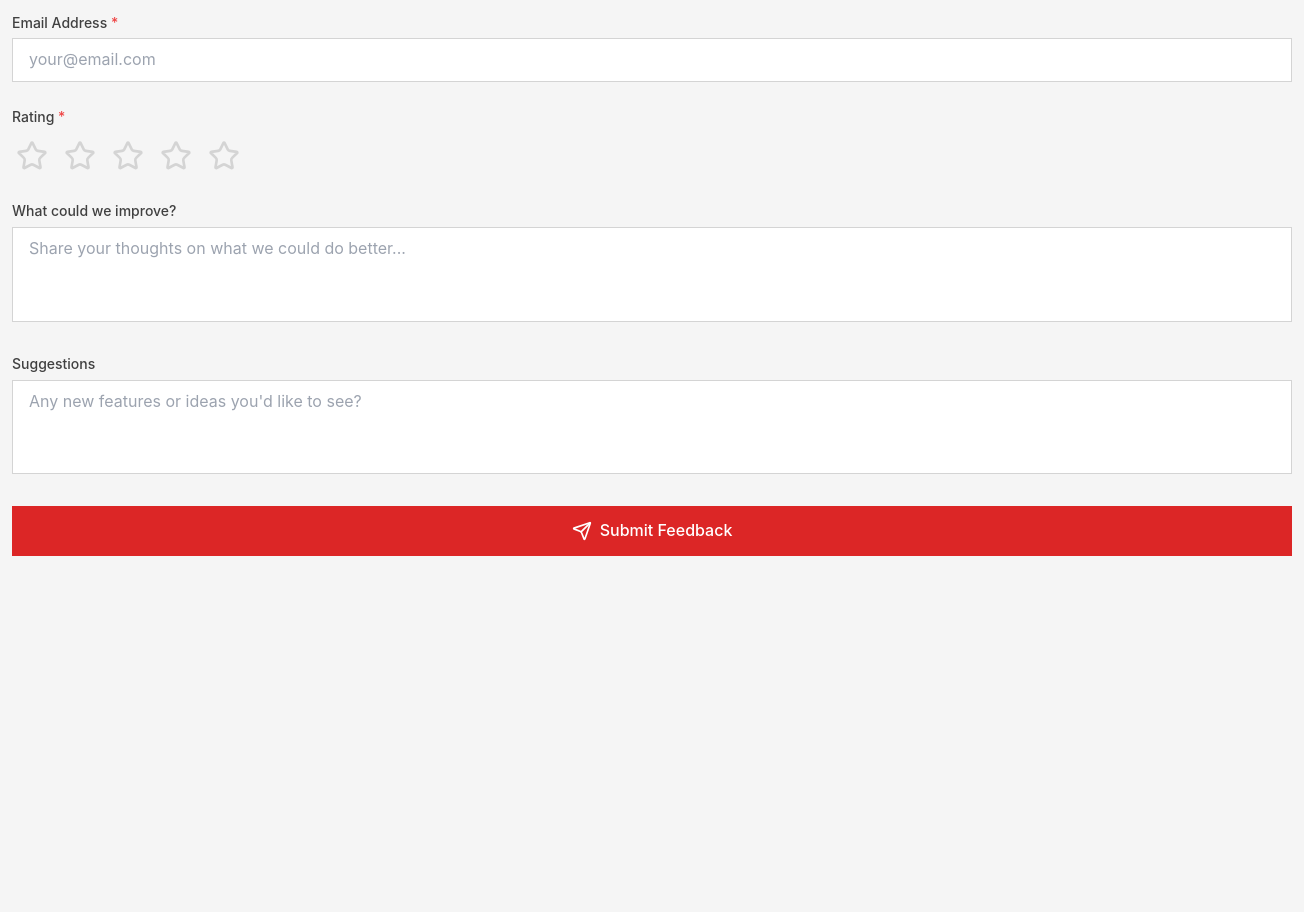
Test: PublicFeedbackForm › shows error on submission failure
Type "a@b.com" into the field labelled "Email Address *". click: {"x": 652, "y": 60}
box: [12, 38, 1292, 82]
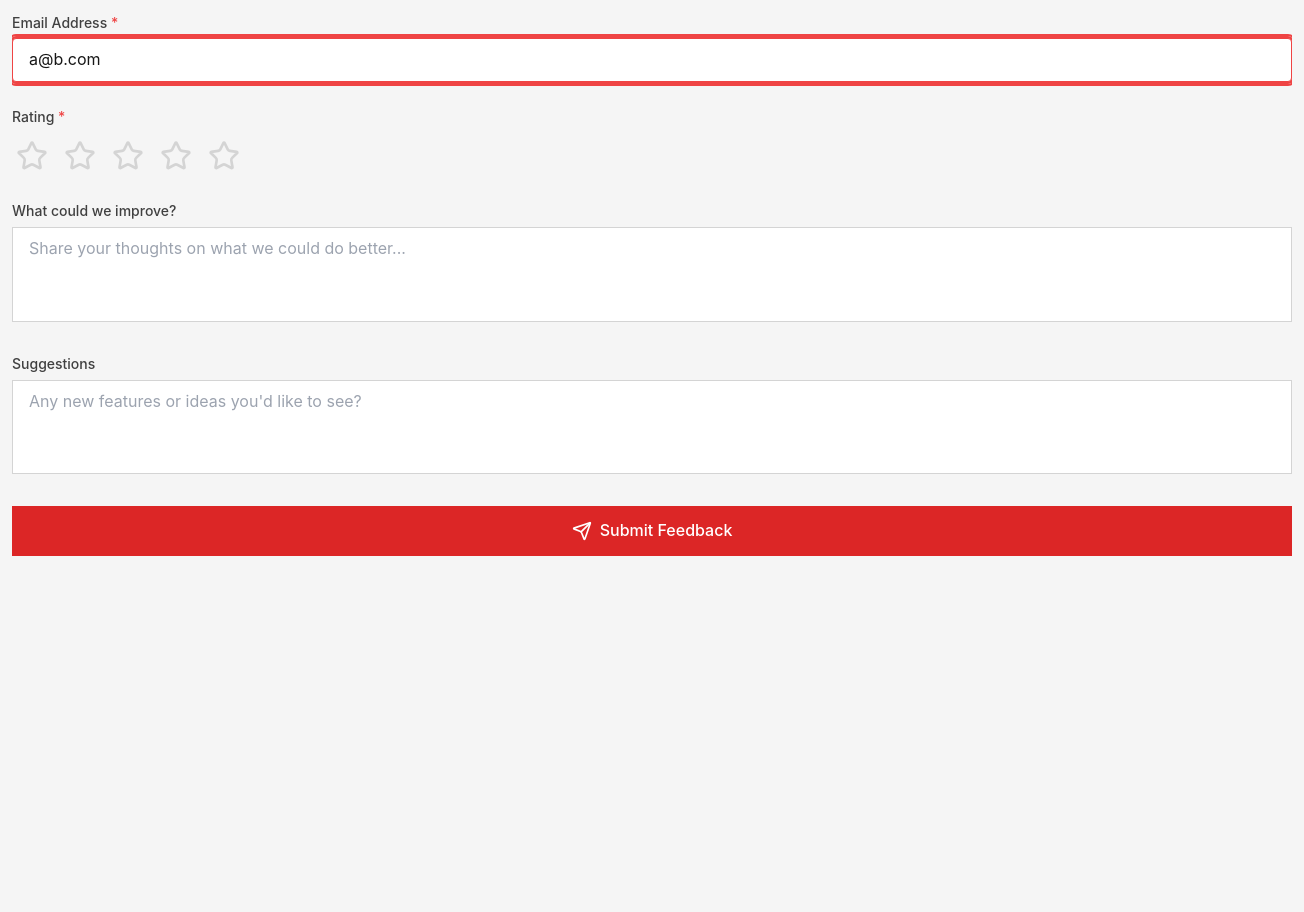
Click the 1st button. click: {"x": 32, "y": 156}
box: [12, 136, 52, 176]
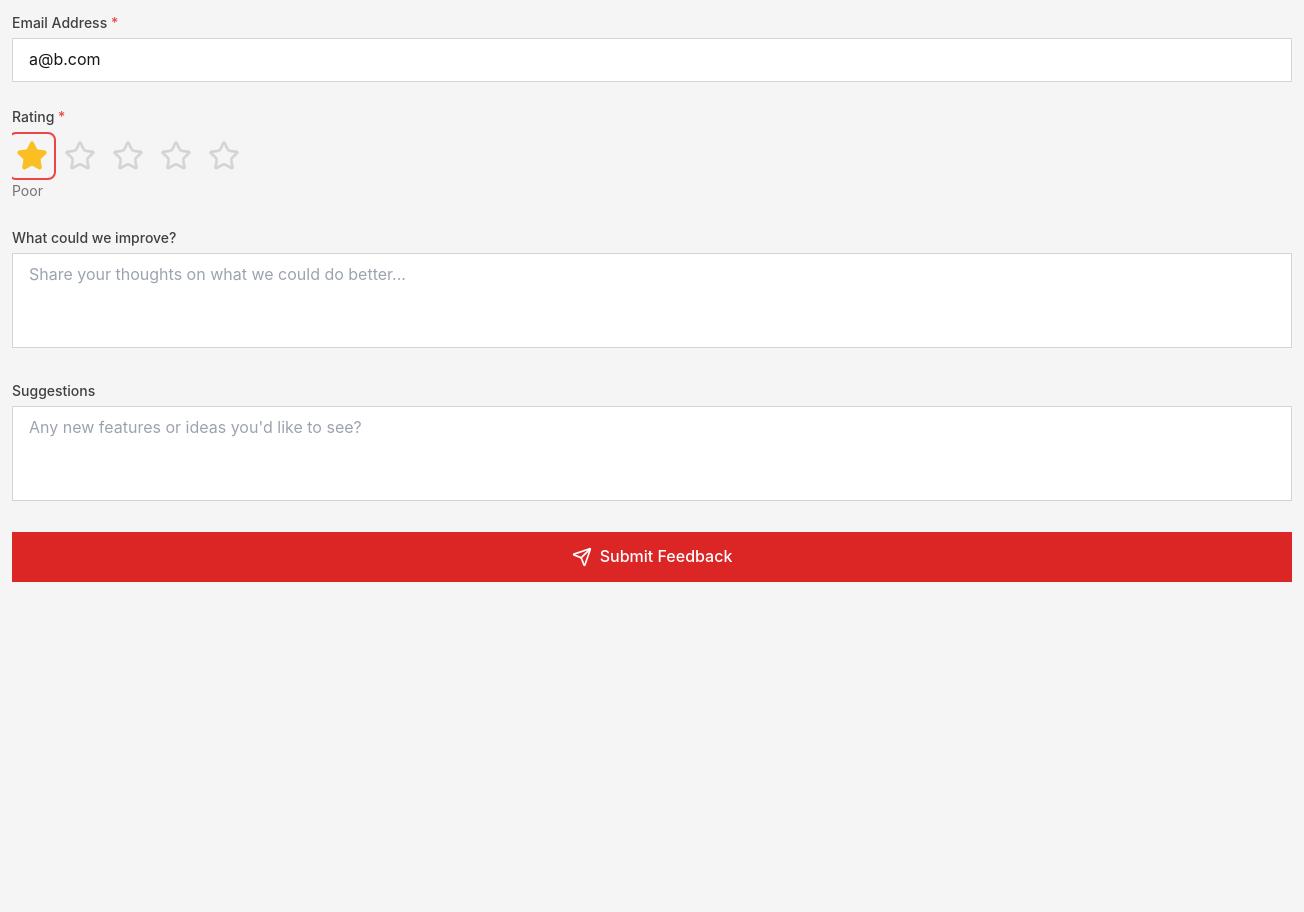
Click the button "Submit Feedback". click: {"x": 652, "y": 557}
box: [12, 532, 1292, 582]
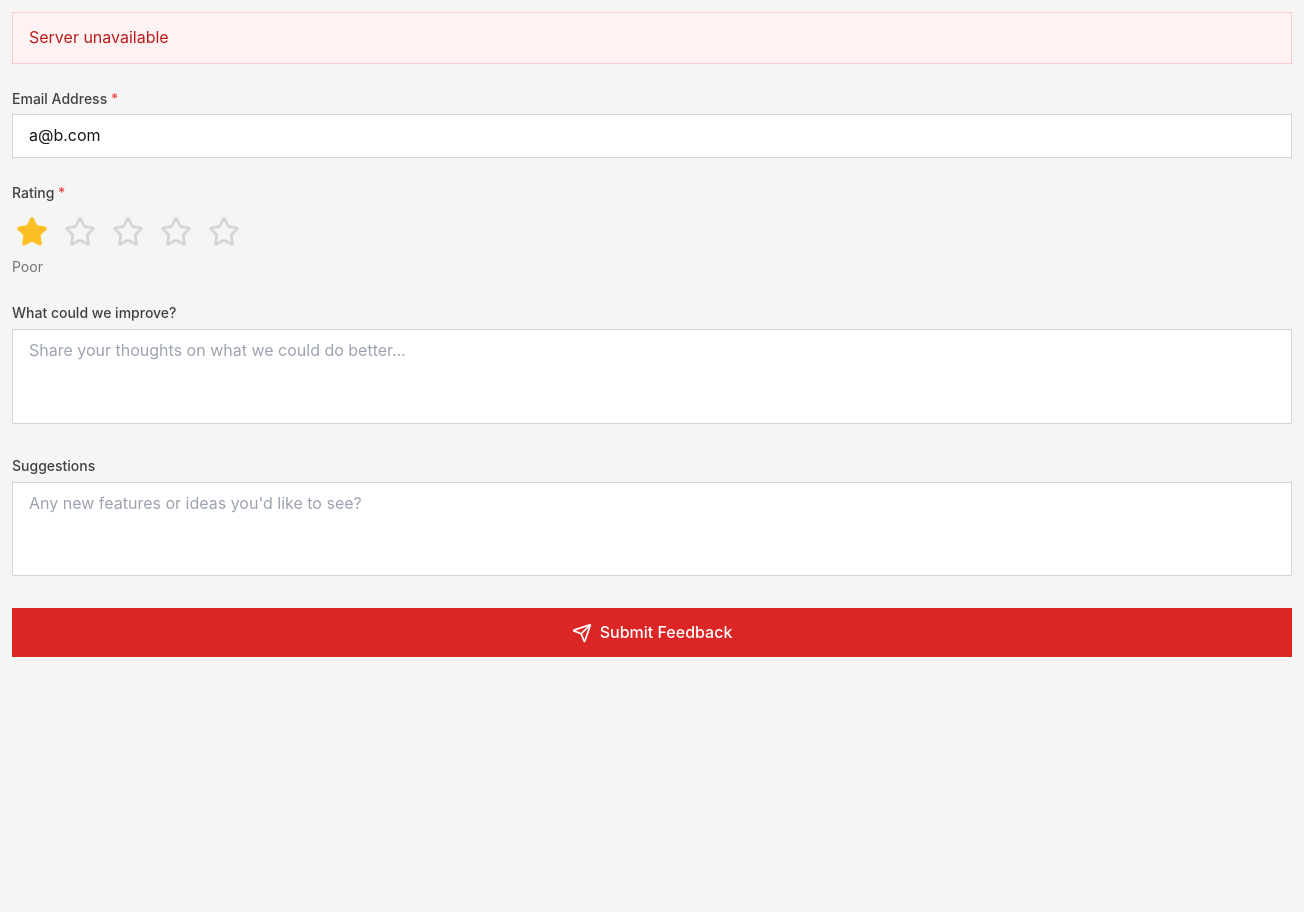
Check: the text "Server unavailable" is shown, box [12, 12, 1292, 64]
